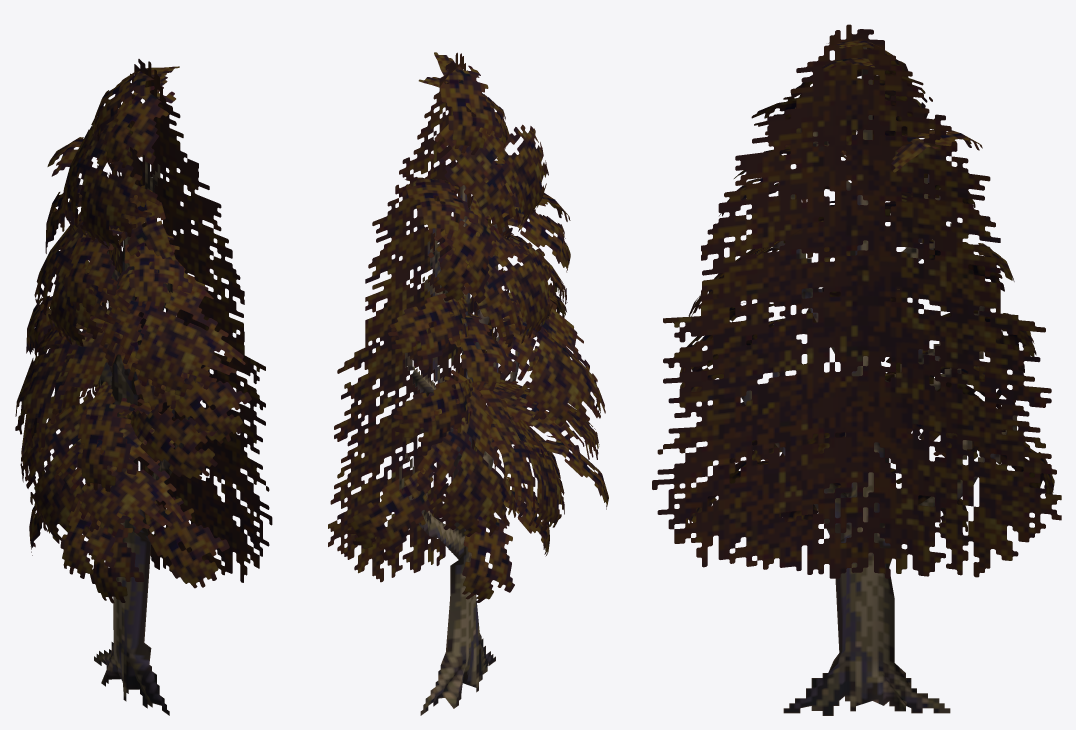
Rendered from EnvFldMD_Tree_C_MA_Painted.FBX.
3 renders of one model, left to right at view 1: azimuth 30°, elevation 25°; view 2: azimuth 150°, elevation 25°; view 3: azimuth 270°, elevation 25°, orthographic. The views are drawn at different scales.
Visible parts, largest first — view 1: EnvFldMD_Tree_C_MA_Painted; view 2: EnvFldMD_Tree_C_MA_Painted; view 3: EnvFldMD_Tree_C_MA_Painted.
Boxes of the visible parts, x1,y1,x2,y2 form: EnvFldMD_Tree_C_MA_Painted: (15,59,272,715); EnvFldMD_Tree_C_MA_Painted: (328,52,608,715); EnvFldMD_Tree_C_MA_Painted: (652,24,1061,715).
Size of the model in its own units: 251 by 705 by 375.
2 materials, 2 textured.
